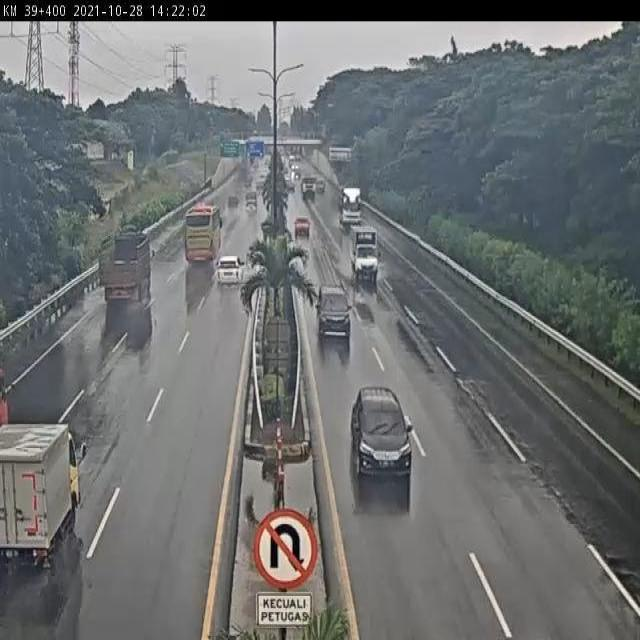Bus: (184, 201, 223, 264)
Car: (349, 386, 414, 483), (314, 283, 352, 338), (216, 256, 246, 286), (293, 216, 311, 237), (228, 195, 240, 209)
Truck: (0, 416, 92, 567), (100, 228, 155, 305), (351, 224, 382, 284), (338, 186, 364, 224), (300, 175, 316, 199)
